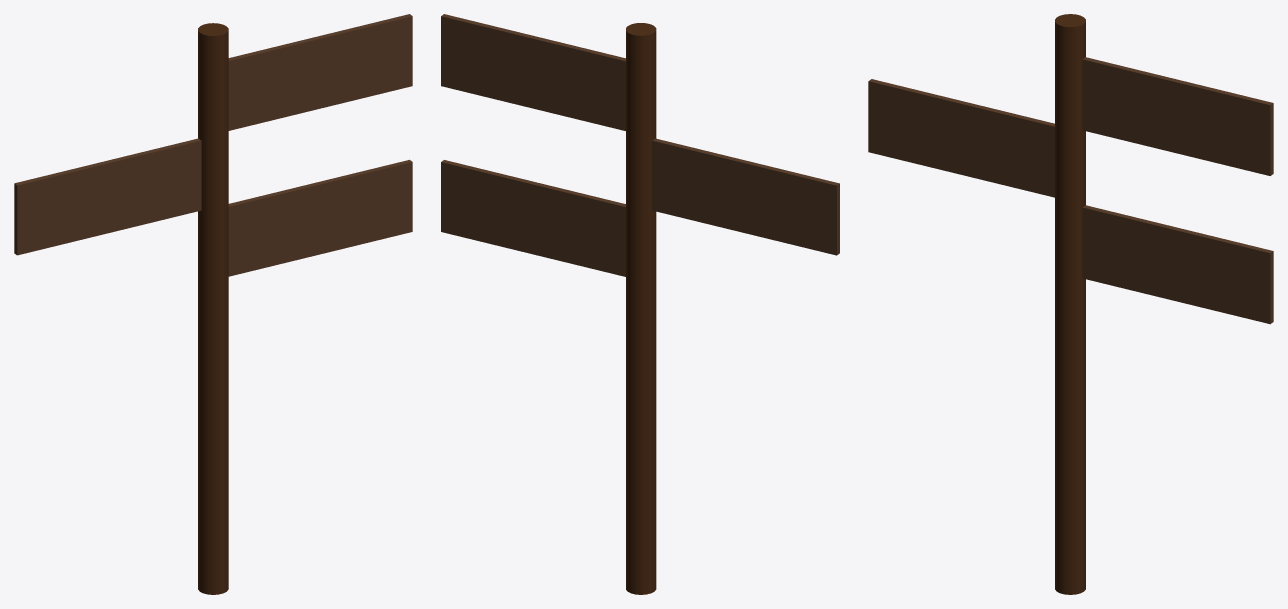
The model's file is sign_3.fbx.
3 renders of one model, left to right at view 1: azimuth 30°, elevation 25°; view 2: azimuth 150°, elevation 25°; view 3: azimuth 330°, elevation 25°, orthographic.
Visible parts, largest first — view 1: Cylinder001, Box002, Box001, Box003; view 2: Cylinder001, Box002, Box001, Box003; view 3: Cylinder001, Box001, Box003, Box002.
Part boxes in pixels (left/top/right/bottom): Cylinder001: left=198, top=23, right=228, bottom=594; Box002: left=14, top=138, right=201, bottom=255; Box001: left=228, top=14, right=412, bottom=130; Box003: left=228, top=159, right=412, bottom=276; Cylinder001: left=626, top=23, right=656, bottom=594; Box002: left=652, top=138, right=839, bottom=255; Box001: left=441, top=14, right=625, bottom=130; Box003: left=441, top=160, right=625, bottom=276; Cylinder001: left=1055, top=14, right=1085, bottom=594; Box001: left=1082, top=57, right=1273, bottom=175; Box003: left=1082, top=205, right=1273, bottom=324; Box002: left=868, top=79, right=1054, bottom=197.
Bounding box in the file's own units: 1.48 × 2 × 0.0985.
